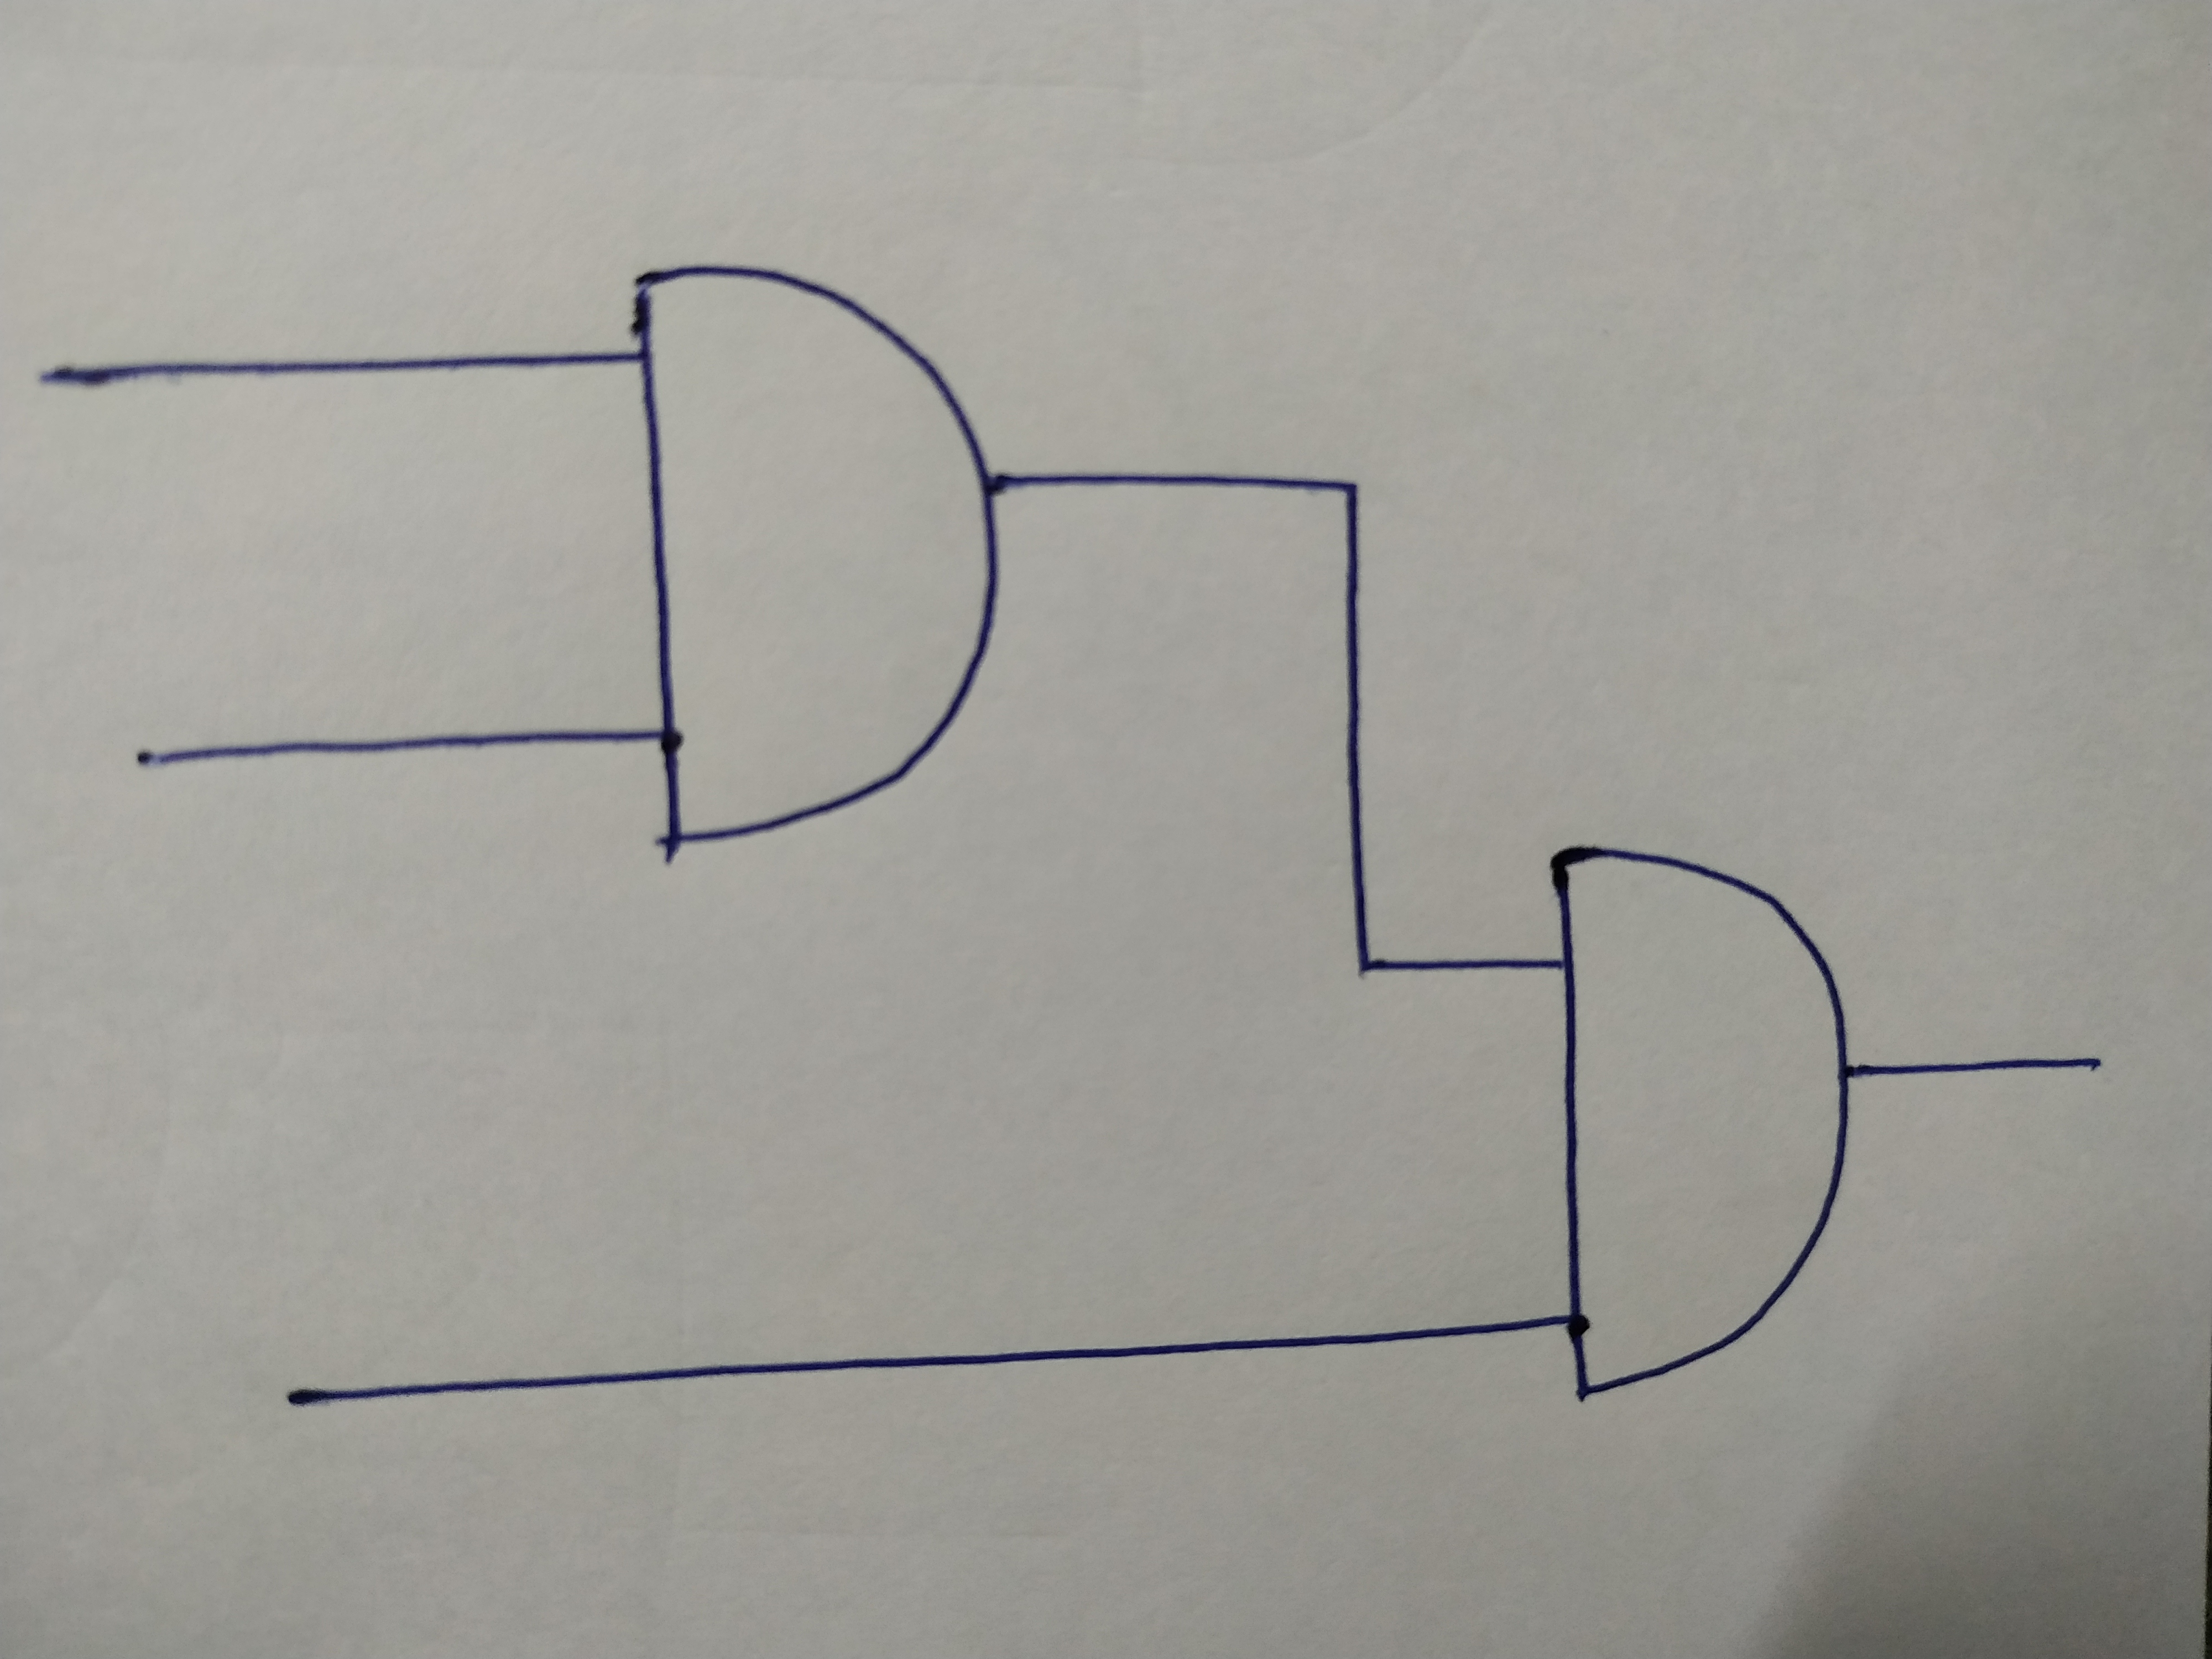and: (625, 261, 996, 850), (1555, 838, 1857, 1399)
